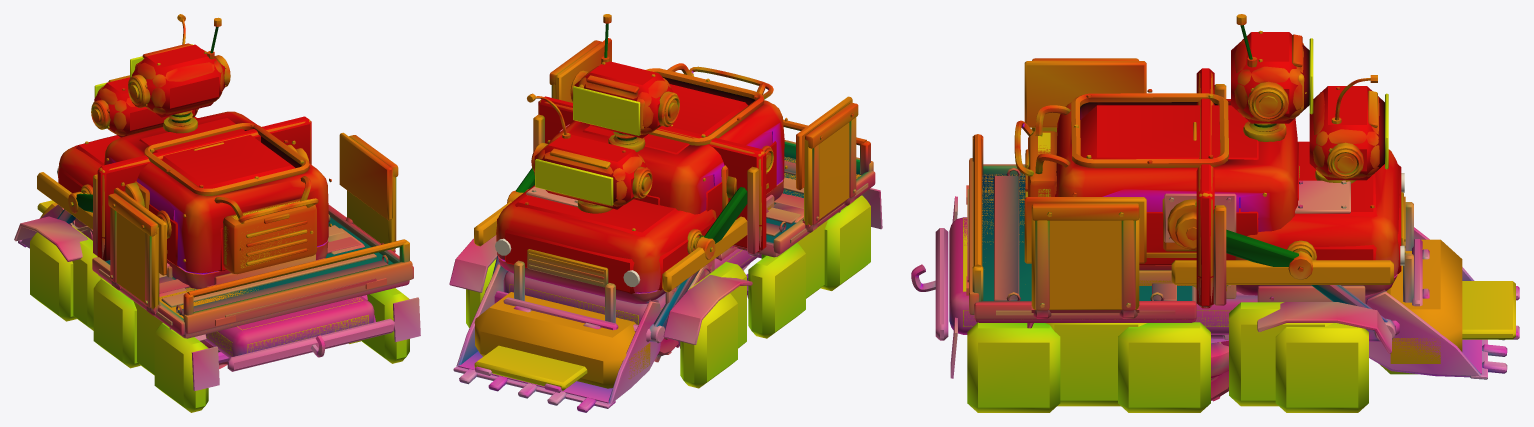
Rendered from workers.glb.
3 renders of one model, left to right at view 1: azimuth 30°, elevation 25°; view 2: azimuth 150°, elevation 25°; view 3: azimuth 270°, elevation 25°, orthographic. The views are drawn at different scales.
Visible parts, largest first — view 1: hb_body, hb_far, sc_body, sc_far, hb_clamp_r, sc_head, hb_clamp_l, hb_head, hb_body_glow, sc_boom; view 2: hb_far, hb_body, sc_far, sc_body, sc_bucket, hb_clamp_l, sc_head, sc_boom, hb_head, hb_clamp_r, hb_fork, hb_lamps (+1 smaller); view 3: hb_far, sc_far, hb_body, sc_body, hb_clamp_r, sc_bucket, hb_clamp_l, sc_head, sc_boom, hb_head, hb_patch, sc_patch (+3 smaller).
Boxes of the visible parts, x1,y1,x2,y2 form: hb_body: (14,118,420,390); hb_far: (30,77,409,412); sc_body: (104,111,367,341); sc_far: (37,44,360,375); hb_clamp_r: (339,132,398,252); sc_head: (128,43,230,126); hb_clamp_l: (108,187,166,312); hb_head: (91,75,197,136); hb_body_glow: (80,187,376,325); sc_boom: (57,148,309,223); hb_far: (466,79,870,390); hb_body: (449,99,882,344); sc_far: (474,61,827,388); sc_body: (547,63,840,259); sc_bucket: (453,264,665,412); hb_clamp_l: (796,96,858,229); sc_head: (570,62,679,144); sc_boom: (485,168,747,343); hb_head: (531,138,652,206); hb_clamp_r: (549,38,611,102); hb_fork: (475,297,618,392); hb_lamps: (495,238,640,286); hb_far: (963,68,1515,412); sc_far: (1038,32,1462,406); hb_body: (911,70,1413,378); sc_body: (1014,89,1299,338); hb_clamp_r: (1024,197,1146,312); sc_bucket: (1365,227,1507,379); hb_clamp_l: (1024,58,1146,127); sc_head: (1234,30,1304,131); sc_boom: (1175,211,1395,341); hb_head: (1313,87,1379,179); hb_patch: (1295,180,1350,213); sc_patch: (1164,193,1236,242).
Bounding box in the file's own units: 0.9988 × 1.24 × 1.7.
